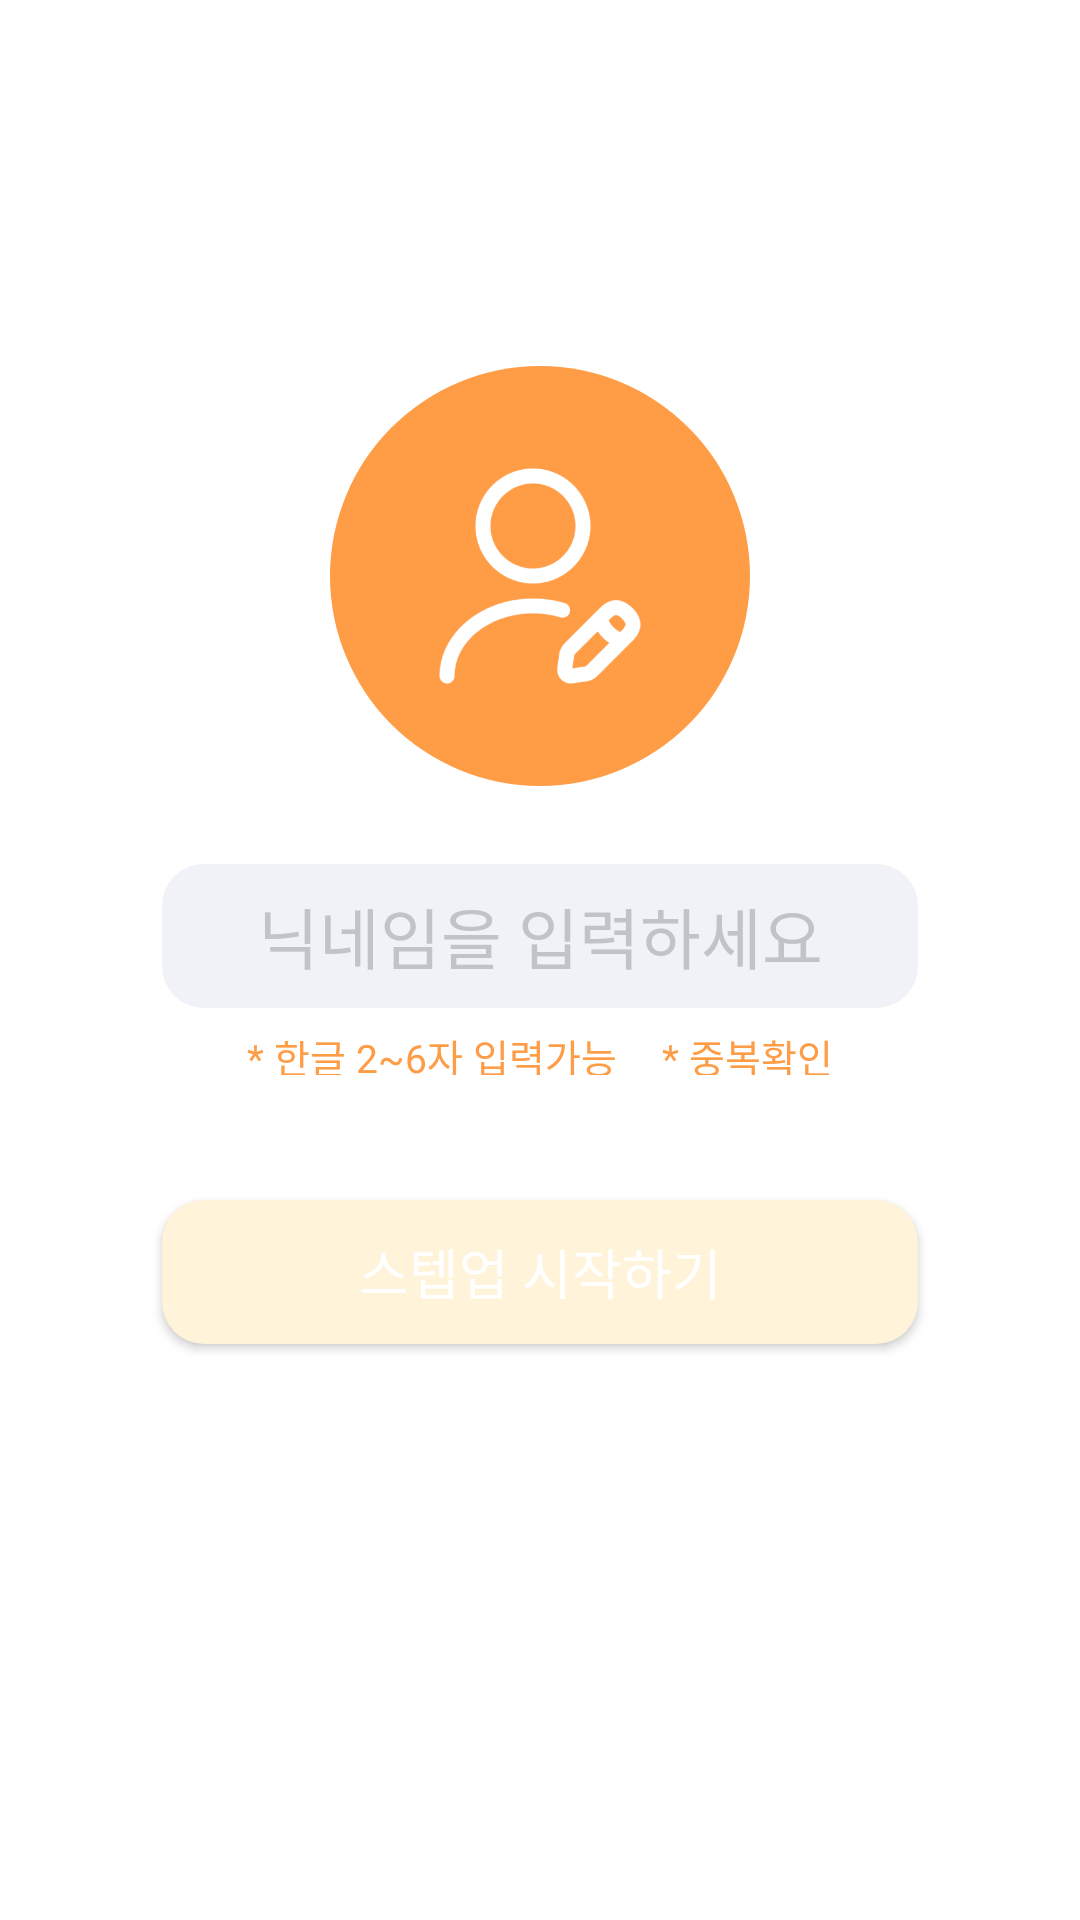

Screen size 1080 × 1920. Icon name, then its center in pixels as [x,y]:
user edit: [540,576]
